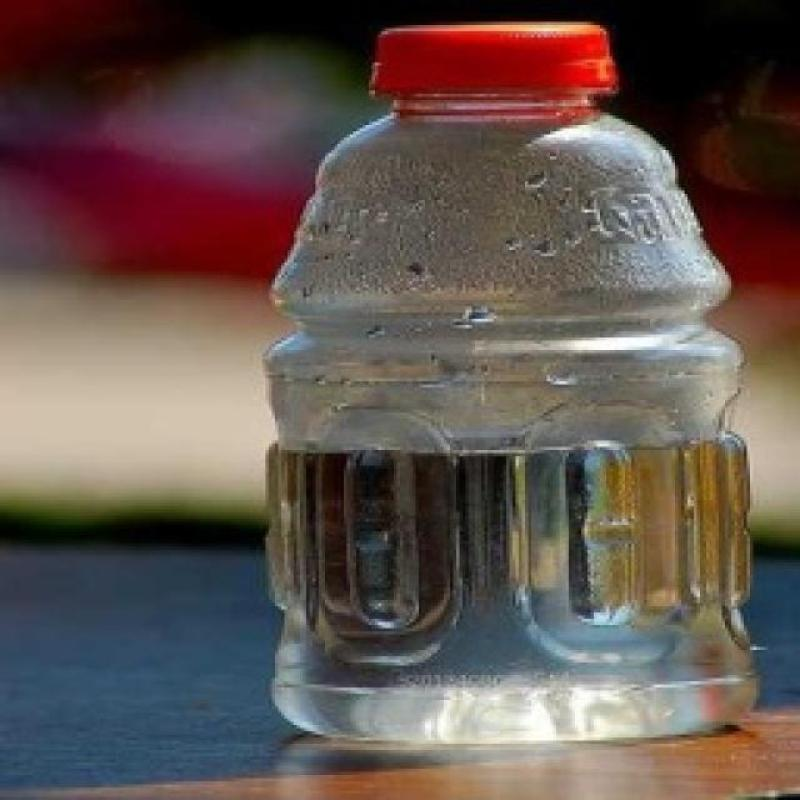botella: (262, 29, 760, 746)
